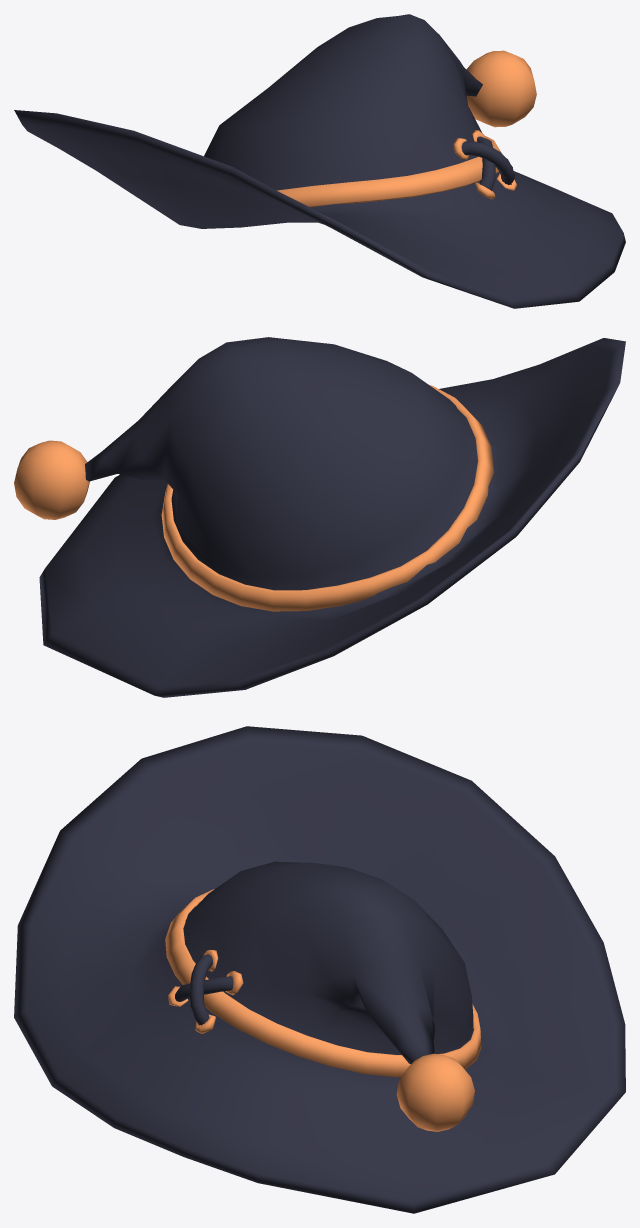
Rendered from girl_witch_hat.fbx.
3 renders of one model, top to bottom at view 1: azimuth 30°, elevation 25°; view 2: azimuth 150°, elevation 25°; view 3: azimuth 270°, elevation 25°, orthographic. The views are drawn at different scales.
Parts seen in each view (by area): view 1: body.002; view 2: body.002; view 3: body.002.
Part boxes in pixels (x1,y1,x2,y2): body.002: (14, 14, 625, 308); body.002: (14, 337, 625, 697); body.002: (14, 726, 625, 1213).
Size of the model in its own units: 68.7 by 31.56 by 70.17.
